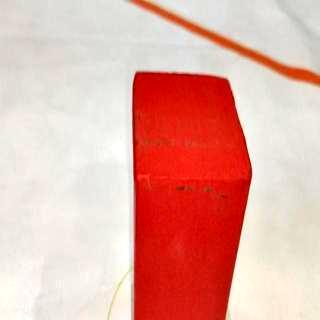redbox: (132, 71, 252, 320)
